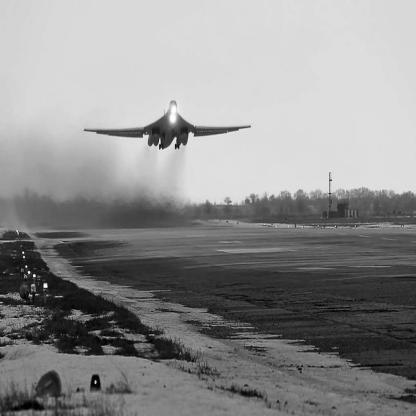Tu160: (85, 101, 252, 151)
